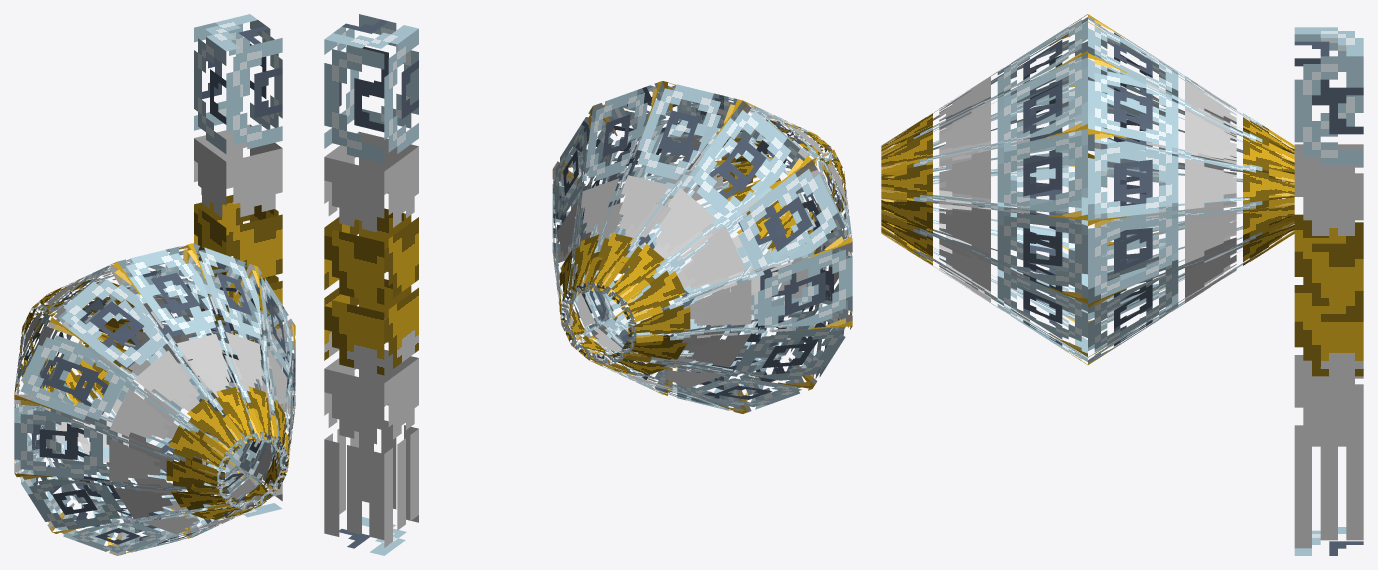
Rendered from cobblestone_panel.obj.
The picture shows the model from 3 angles, left to right: view 1: azimuth 30°, elevation 25°; view 2: azimuth 150°, elevation 25°; view 3: azimuth 270°, elevation 25°; orthographic projection. The views are drawn at different scales.
Parts seen in each view (by area): view 1: tube, mesh; view 2: tube, mesh; view 3: tube, mesh.
Boxes of the visible parts, box(x1,y1,x2,y2) form: tube: box(14, 243, 295, 555); mesh: box(194, 14, 282, 517); tube: box(552, 81, 852, 413); mesh: box(324, 14, 418, 555); tube: box(881, 14, 1294, 364); mesh: box(1294, 27, 1363, 555).
Size of the model in its own units: 0.8125 by 1 by 0.875.
